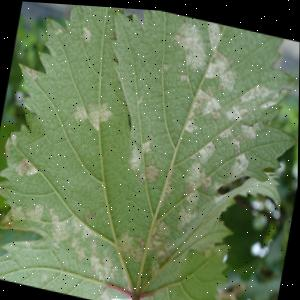Folha: (0, 0, 300, 300)
Fungo: (166, 13, 212, 83), (124, 128, 167, 187), (141, 214, 179, 277), (82, 233, 124, 287), (199, 43, 242, 92), (237, 75, 286, 118), (182, 84, 219, 139), (216, 94, 252, 150), (72, 93, 115, 134), (179, 159, 212, 209), (6, 192, 46, 231), (43, 205, 75, 251), (114, 226, 147, 266), (127, 128, 156, 173), (172, 201, 202, 231), (202, 18, 226, 52), (227, 146, 249, 178), (14, 155, 40, 180), (138, 160, 161, 187), (239, 114, 261, 142), (197, 135, 218, 163), (72, 102, 90, 125), (3, 130, 21, 149), (79, 24, 93, 43), (83, 207, 98, 224), (25, 66, 38, 79), (52, 22, 64, 35)
